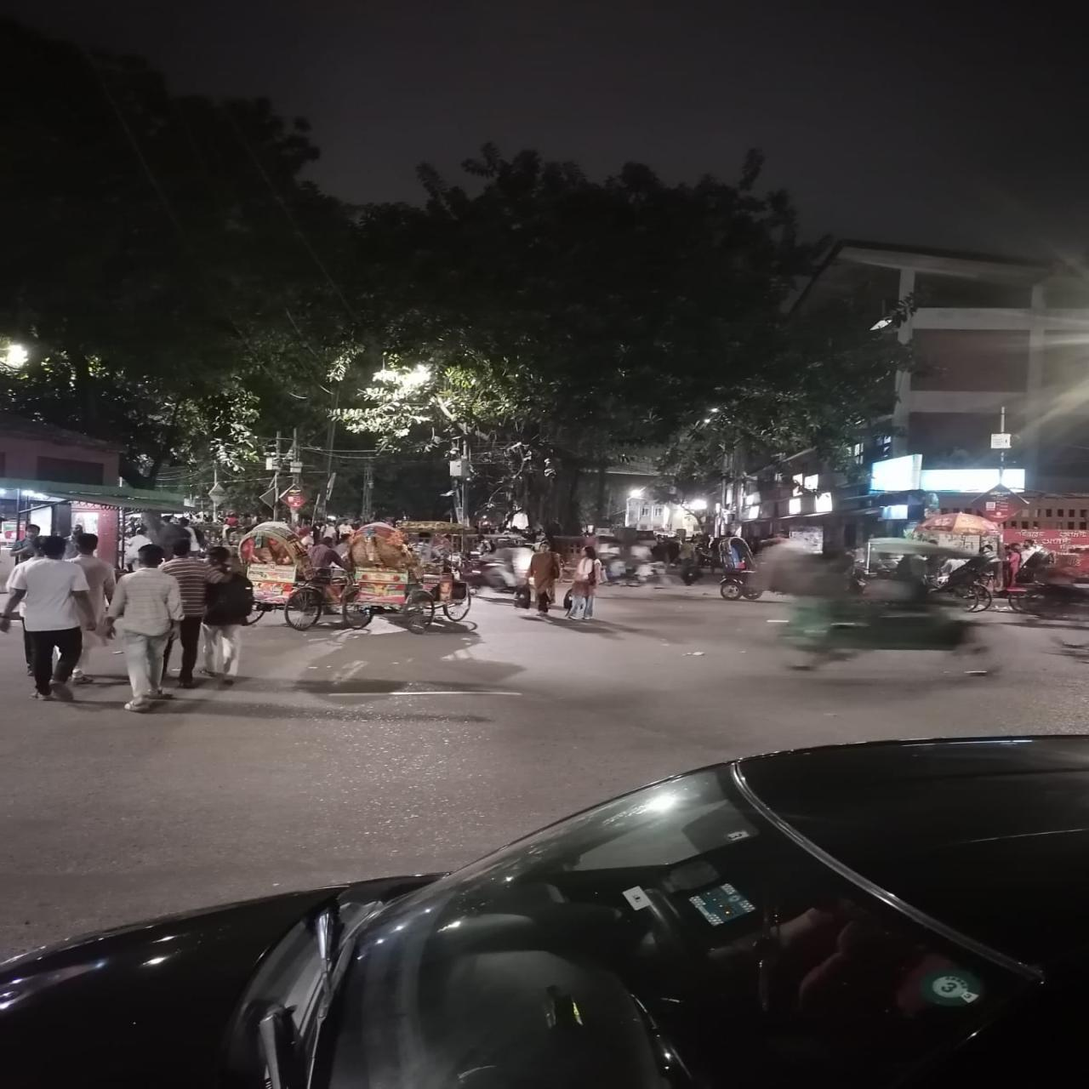person: (0, 536, 93, 704), (103, 539, 183, 710), (202, 546, 254, 682), (69, 533, 110, 669), (167, 538, 207, 676), (526, 540, 565, 618), (569, 541, 601, 632)
